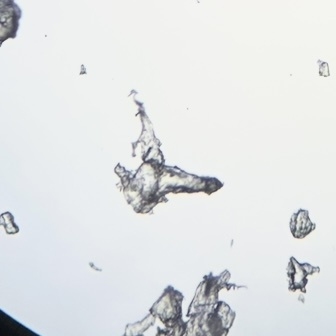microplastic: (114, 90, 224, 214), (124, 269, 248, 336), (287, 257, 320, 293), (1, 1, 21, 45), (289, 209, 316, 239), (1, 211, 18, 234), (318, 59, 329, 77), (90, 262, 102, 271), (79, 64, 86, 74)
